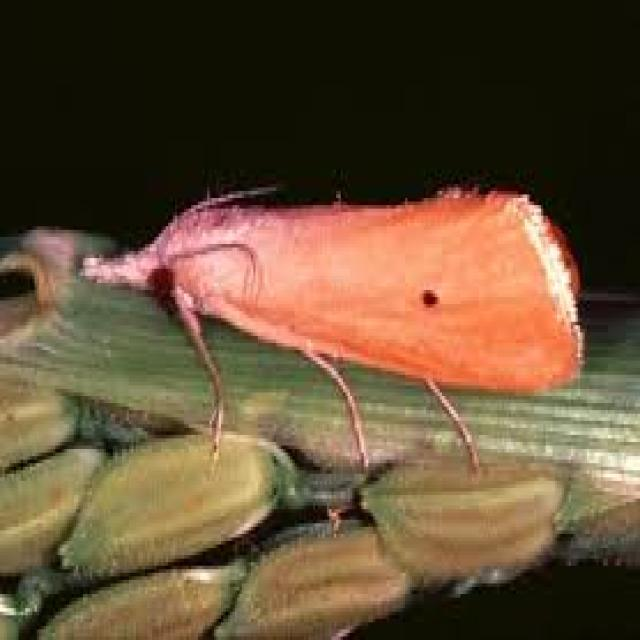yellow-stem-borer: (58, 127, 640, 527)
